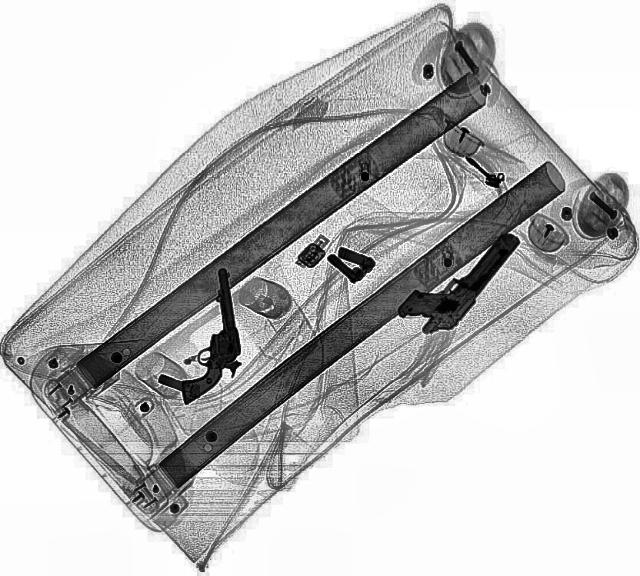Gun: (391, 212, 523, 342), (164, 266, 246, 404)
